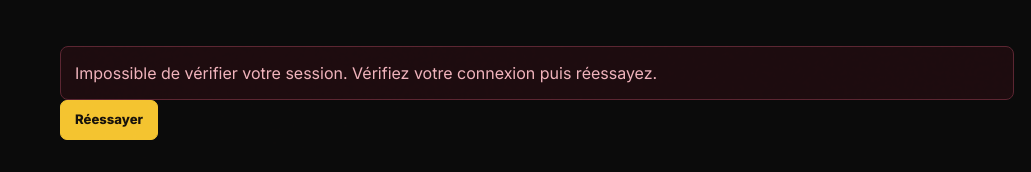
Account session resilience › preserves the session on network or service failure and offers retry
Expected: the message shows "Impossible de vérifier votre session", x1=75 y1=63 x2=657 y2=83
Click the button "Réessayer" at coordinates (109, 120), box x1=60 y1=100 x2=158 y2=140
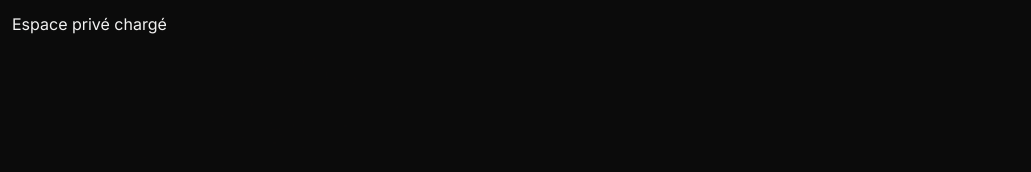
Now the text "Espace privé chargé" is shown, box x1=12 y1=14 x2=167 y2=34
